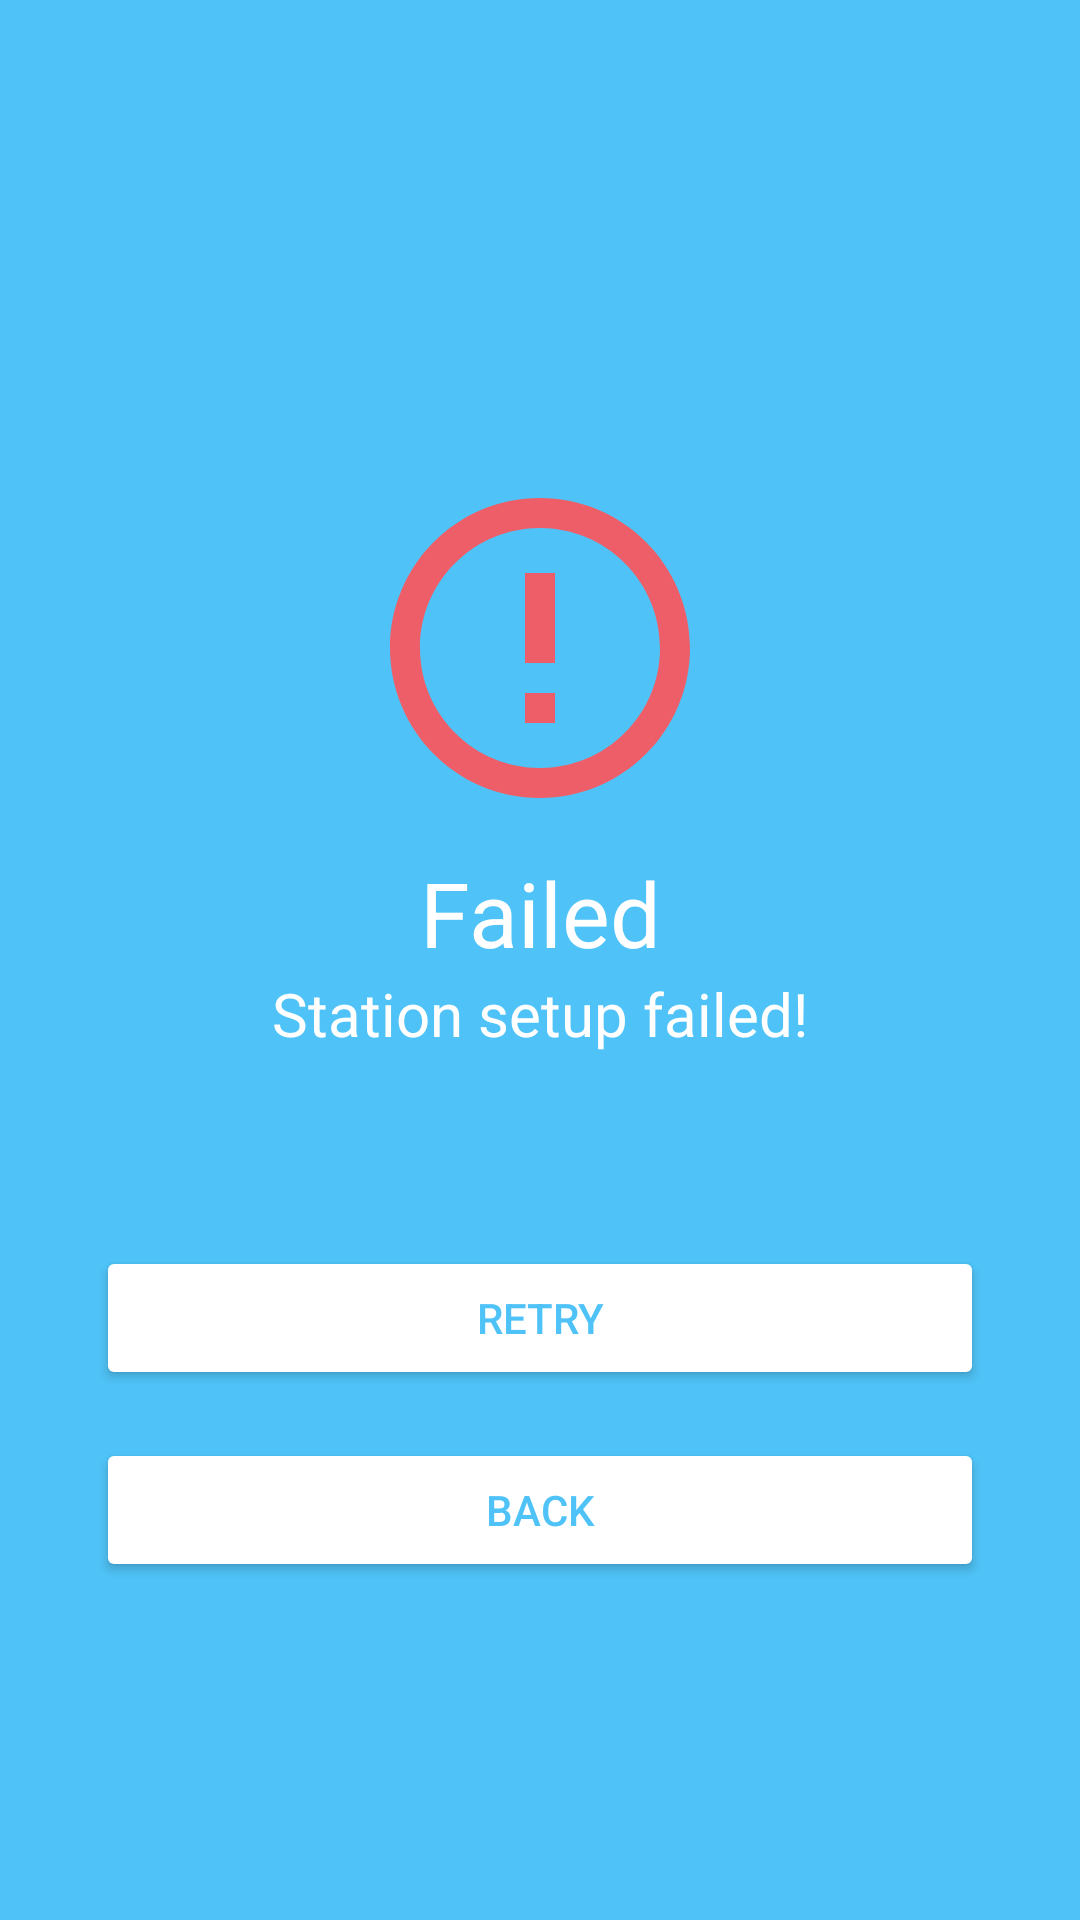

Screen size 1080 × 1920. Icon name, then its center in pixels as (x=x, y=y):
error: (x=540, y=648)
